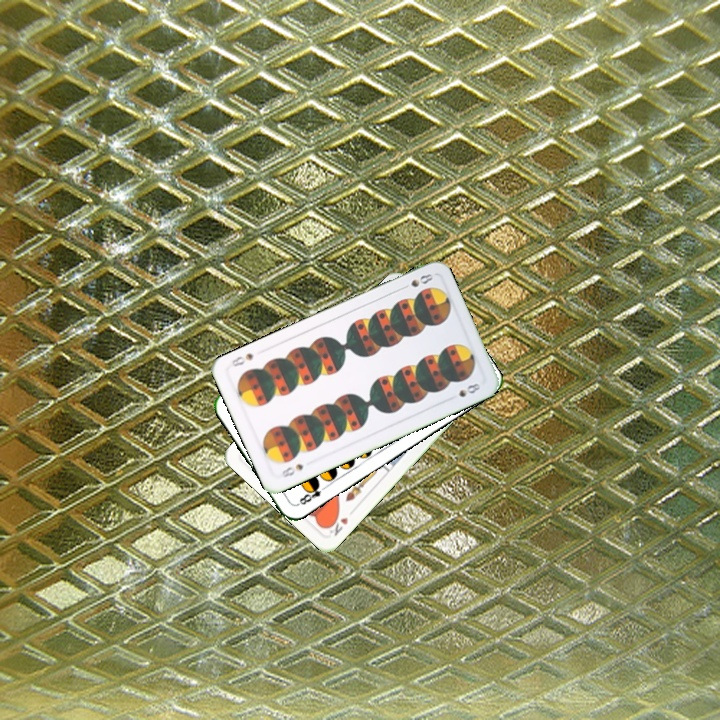E8: (293, 478, 330, 508)
HK: (323, 511, 351, 539)
S8: (276, 459, 306, 481), (407, 269, 436, 290)
